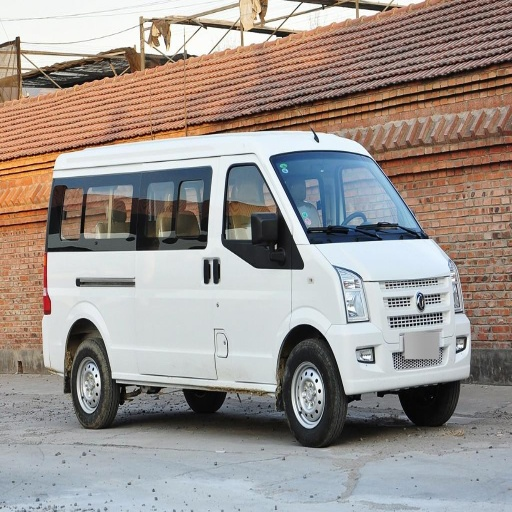front_bumper: (387, 311, 469, 384)
front_glass: (271, 152, 423, 236)
front_right_door: (225, 163, 289, 313)
trunk: (48, 252, 285, 379), (333, 282, 440, 389)
